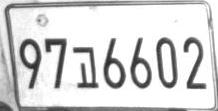0: (155, 36, 178, 89)
2: (182, 36, 207, 89)
6: (102, 37, 126, 89), (129, 37, 152, 89)
7: (44, 38, 68, 88)
9: (18, 37, 42, 89)
고: (72, 46, 99, 88)
